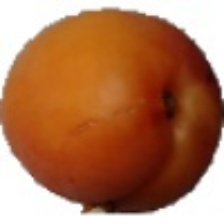apricot: (28, 7, 213, 187)
